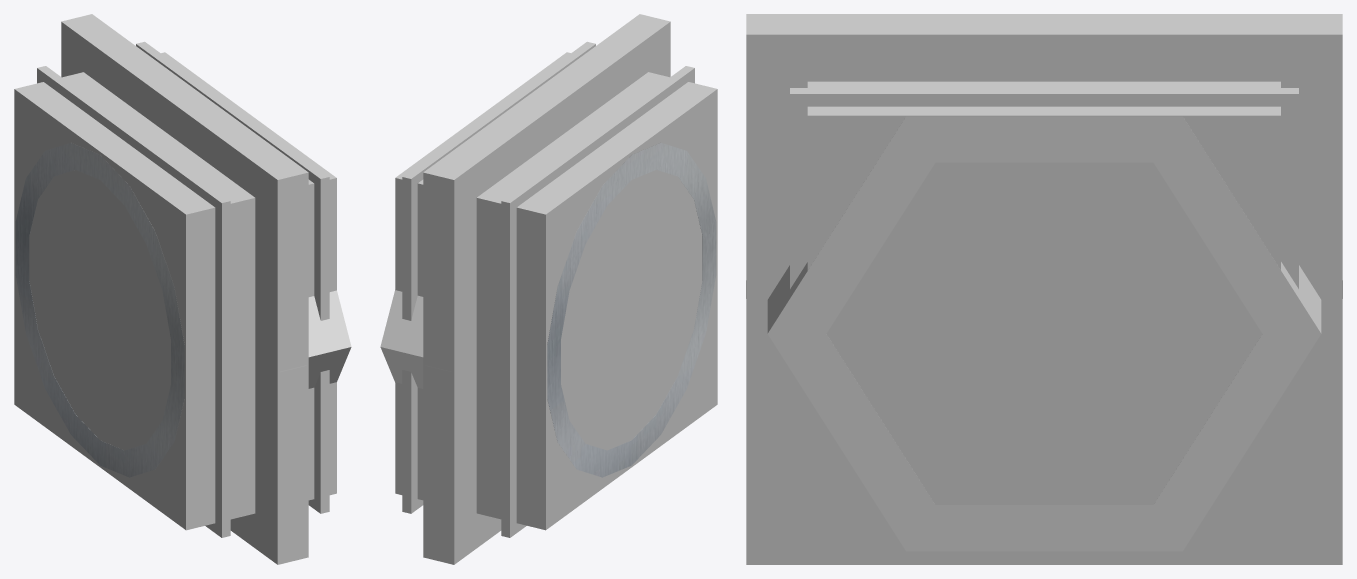
Rendered from rad1_zagl_3s4.FBX.
3 renders of one model, left to right at view 1: azimuth 30°, elevation 25°; view 2: azimuth 150°, elevation 25°; view 3: azimuth 270°, elevation 25°, orthographic. The views are drawn at different scales.
Parts seen in each view (by area): view 1: rad1_zagl_COL002, rad1_zagl_3/4, size_1_L_est_002, size_1_R_est_001; view 2: rad1_zagl_COL002, rad1_zagl_3/4, size_1_L_est_002, size_1_R_est_001; view 3: rad1_zagl_COL002, rad1_zagl_3/4, size_1_R_est_001.
Part boxes in pixels (x1,y1,x2,y2): rad1_zagl_COL002: [14, 14, 336, 564]; rad1_zagl_3/4: [15, 143, 351, 477]; size_1_L_est_002: [37, 66, 230, 537]; size_1_R_est_001: [136, 41, 329, 513]; rad1_zagl_COL002: [395, 14, 717, 564]; rad1_zagl_3/4: [380, 143, 716, 477]; size_1_L_est_002: [501, 66, 694, 537]; size_1_R_est_001: [402, 41, 595, 513]; rad1_zagl_COL002: [746, 14, 1342, 564]; rad1_zagl_3/4: [746, 116, 1342, 551]; size_1_R_est_001: [790, 88, 1298, 555].
Size of the model in its own units: 0.017 by 0.0414 by 0.0422.
3 materials, 2 textured.
